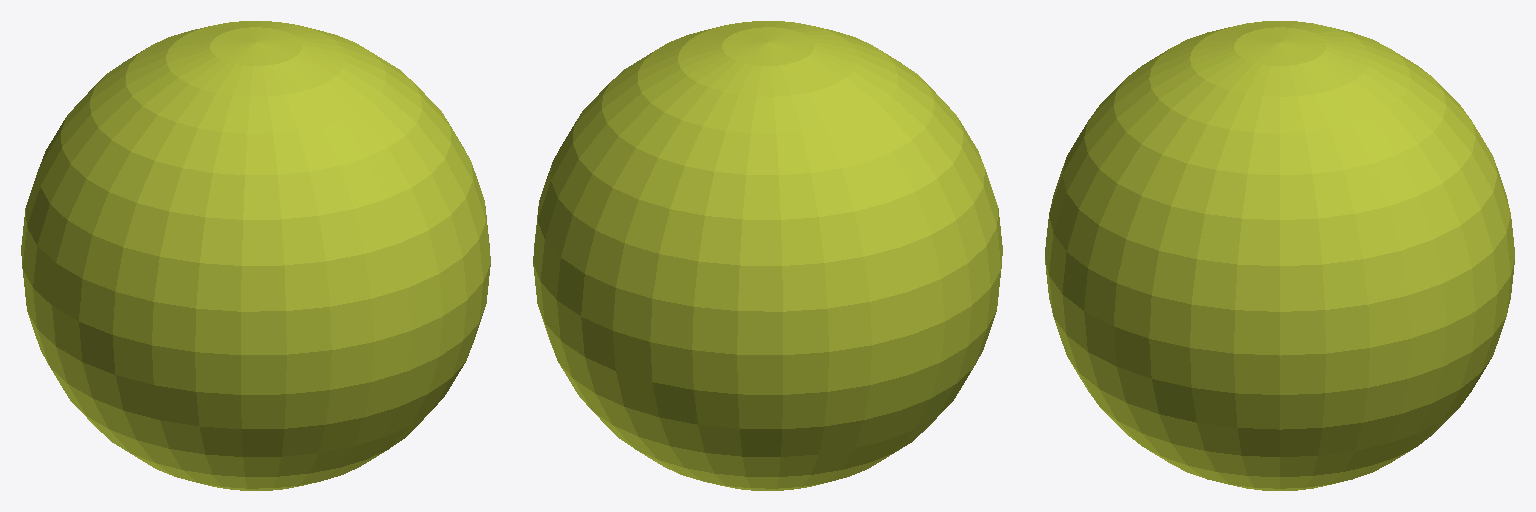
The model's file is Light.obj.
The picture shows the model from 3 angles: view 1: azimuth 30°, elevation 25°; view 2: azimuth 150°, elevation 25°; view 3: azimuth 270°, elevation 25°; orthographic projection.
Parts seen in each view (by area): view 1: LightSphere.001_Sphere.002; view 2: LightSphere.001_Sphere.002; view 3: LightSphere.001_Sphere.002.
Boxes of the visible parts, x1,y1,x2,y2 form: LightSphere.001_Sphere.002: [21, 21, 490, 490]; LightSphere.001_Sphere.002: [533, 21, 1002, 490]; LightSphere.001_Sphere.002: [1045, 21, 1514, 490].
Bounding box in the file's own units: 0.3992 × 0.3992 × 0.3992.